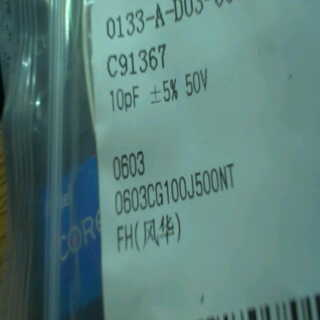10pF: (107, 82, 147, 114)
